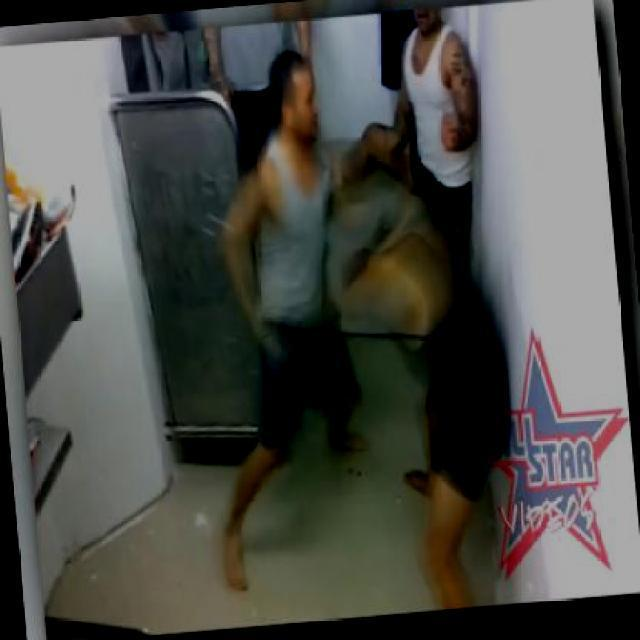fight: (201, 36, 470, 559)
